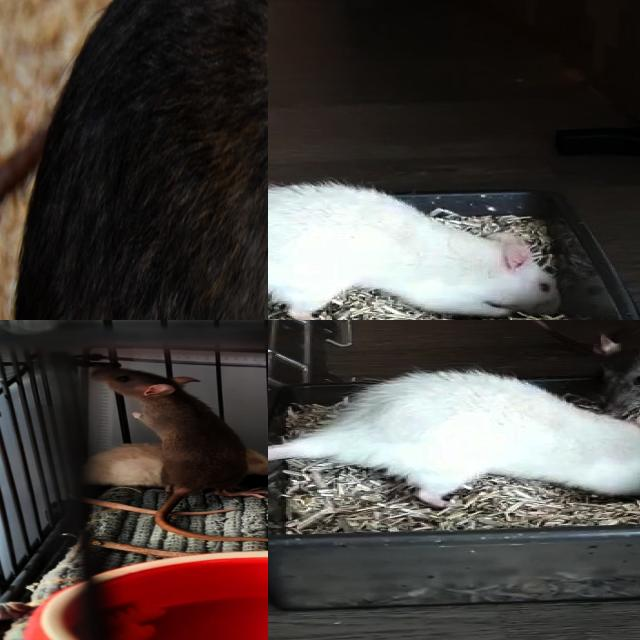rat: (7, 0, 268, 320), (328, 368, 640, 511), (268, 184, 572, 320), (88, 364, 268, 499), (588, 320, 640, 416)
